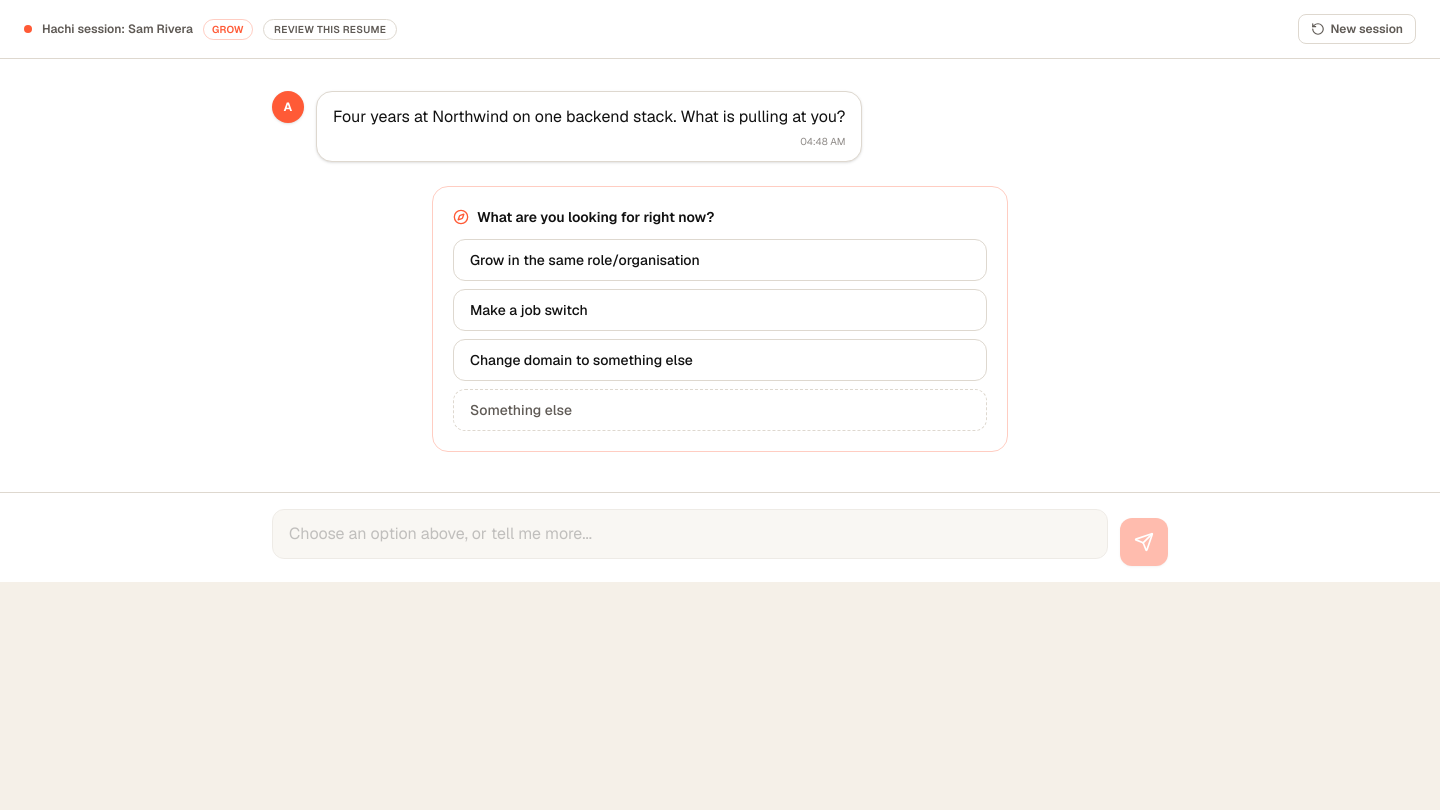
Scenario: ChatWindow failure handling › shows the UPSTREAM_TIMEOUT message and offers Retry
Click the button "Grow in the same role/organisation" at [585, 260], box [453,239,987,281]
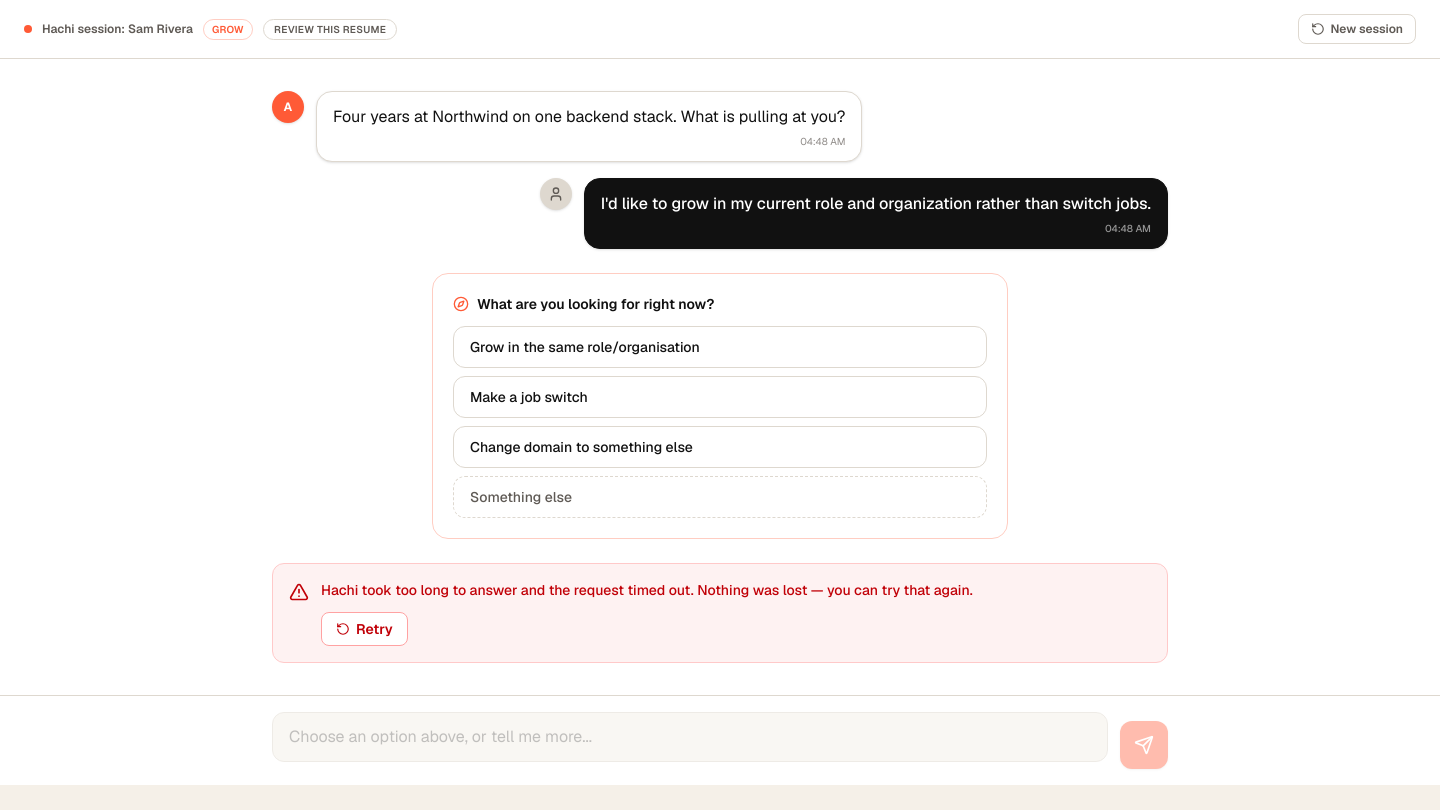
Result: the button "Retry" is shown at [321,612,408,646]
